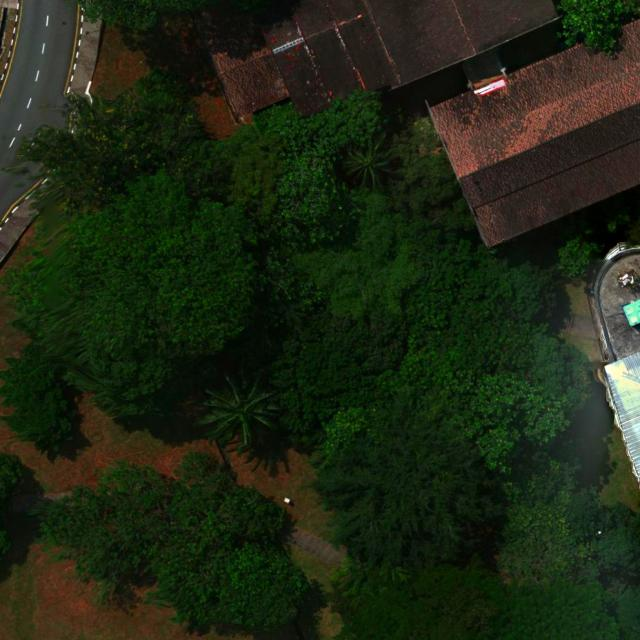Tree: (400, 236, 601, 476), (4, 167, 260, 352), (25, 451, 286, 608), (311, 394, 507, 565), (327, 549, 618, 640), (16, 69, 198, 187), (255, 88, 386, 250), (268, 312, 407, 452), (287, 188, 426, 318), (141, 542, 313, 636), (178, 130, 288, 216), (190, 366, 284, 456), (0, 353, 75, 455), (560, 487, 640, 582), (389, 150, 476, 236), (64, 0, 279, 33), (554, 0, 640, 58), (338, 130, 403, 193), (0, 437, 24, 577), (556, 234, 601, 280), (602, 196, 634, 232)
